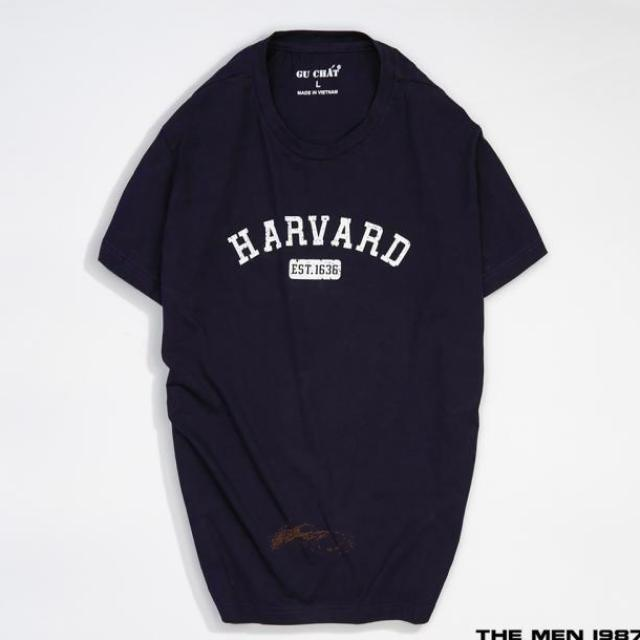stain: (265, 515, 359, 559)
